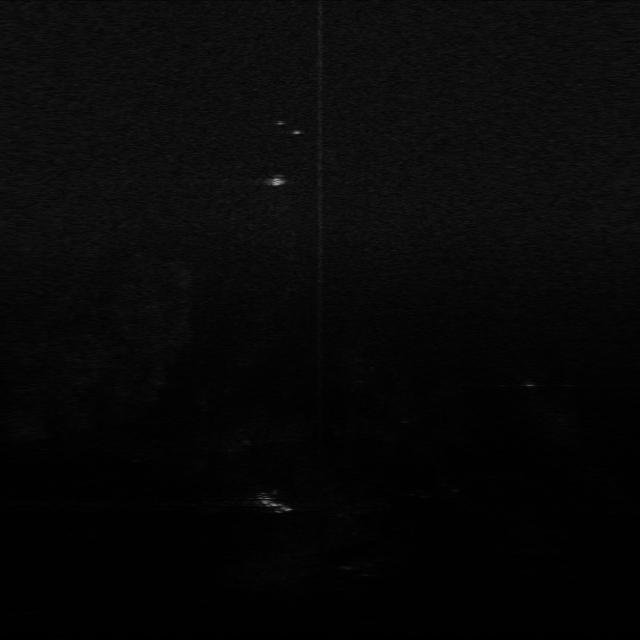rov: (264, 172, 290, 191)
